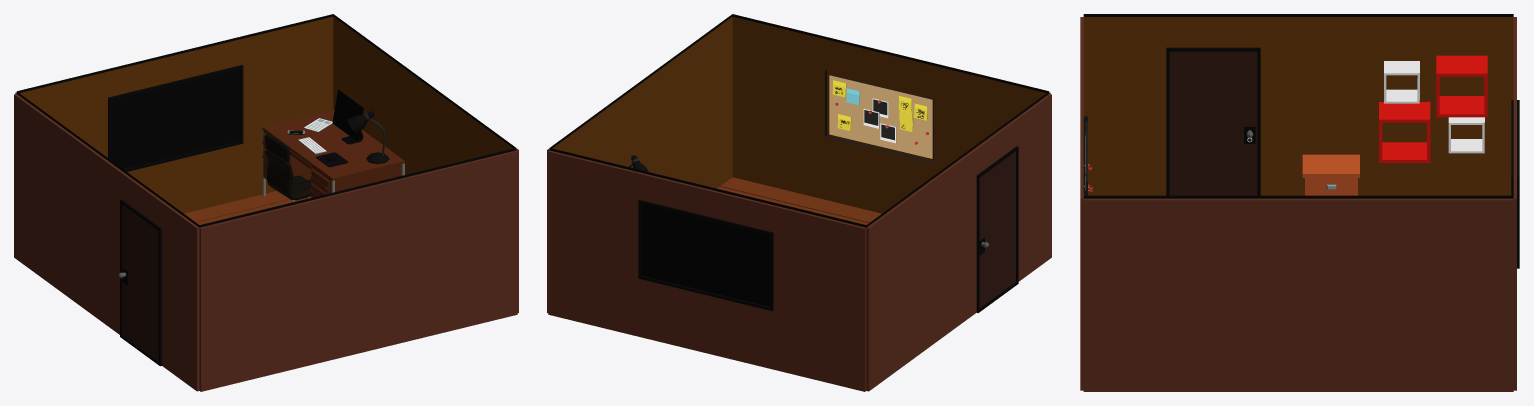
The model's file is bureau.obj.
3 views of the same model, side by side, from view 1: azimuth 30°, elevation 25°; view 2: azimuth 150°, elevation 25°; view 3: azimuth 270°, elevation 25° (orthographic). The views are drawn at different scales.
Visible parts, largest first — view 1: model:Mesh, fenetre, bureau, chaise, MonitorFBXASC046001FBXASC124iMacFBXASC124DupliFBXASC124 MonitorF, lampe; view 2: model:Mesh, fenetre, pegboard; view 3: model:Mesh, etagere, table_nuit, pegboard.
Part boxes in pixels (x1=…): model:Mesh: x1=14, y1=14, x2=518, y2=391; fenetre: x1=111, y1=69, x2=239, y2=168; bureau: x1=262, y1=109, x2=404, y2=197; chaise: x1=265, y1=134, x2=311, y2=202; MonitorFBXASC046001FBXASC124iMacFBXASC124DupliFBXASC124 MonitorF: x1=332, y1=90, x2=363, y2=144; lampe: x1=347, y1=111, x2=389, y2=163; model:Mesh: x1=547, y1=14, x2=1051, y2=391; fenetre: x1=642, y1=204, x2=769, y2=306; pegboard: x1=825, y1=70, x2=936, y2=163; model:Mesh: x1=1080, y1=14, x2=1519, y2=391; etagere: x1=1379, y1=55, x2=1487, y2=163; table_nuit: x1=1302, y1=154, x2=1359, y2=195; pegboard: x1=1083, y1=116, x2=1092, y2=195.
Size of the model in its own units: 5.3 by 2.55 by 5.21.
